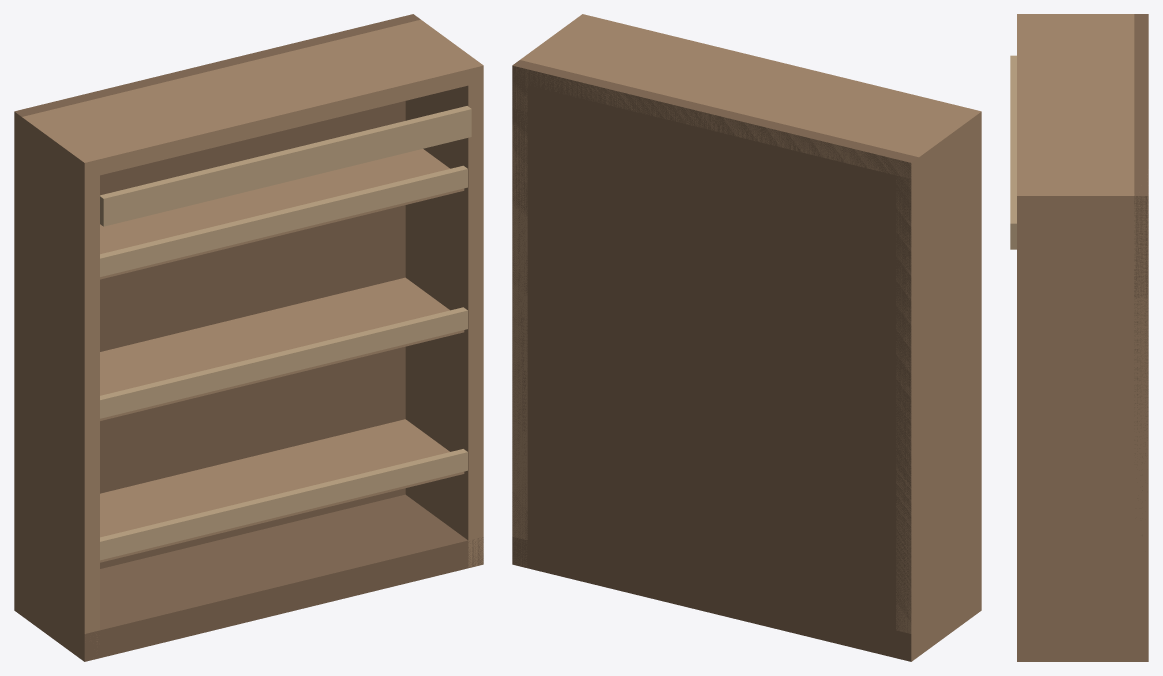
The model's file is shop_shelf.glb.
The picture shows the model from 3 angles, left to right: view 1: azimuth 30°, elevation 25°; view 2: azimuth 150°, elevation 25°; view 3: azimuth 270°, elevation 25°; orthographic projection. The views are drawn at different scales.
Visible parts, largest first — view 1: shop_shelf; view 2: shop_shelf; view 3: shop_shelf.
Part boxes in pixels (x1,y1,x2,y2): shop_shelf: (14, 14, 483, 661); shop_shelf: (512, 14, 981, 661); shop_shelf: (1010, 14, 1148, 661).
Size of the model in its own units: 1.8 by 2.15 by 0.5775.
